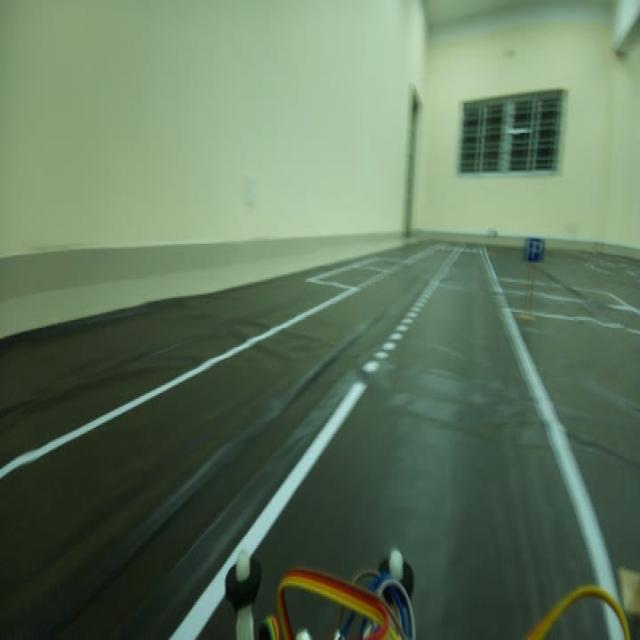parking: (523, 233, 545, 263)
